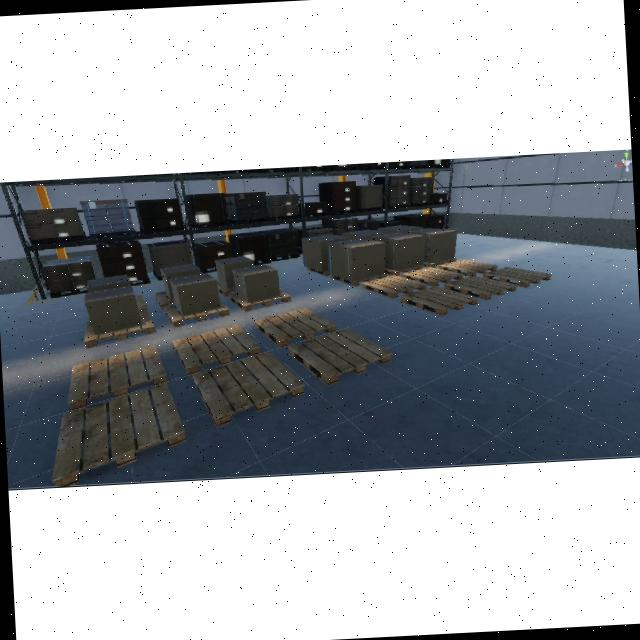wooden_pallet: (52, 384, 186, 488), (193, 353, 306, 428), (69, 346, 167, 411), (289, 329, 392, 387), (171, 324, 261, 373), (255, 308, 337, 348), (84, 309, 155, 348), (401, 287, 479, 315), (163, 300, 230, 328), (444, 275, 518, 300), (482, 266, 552, 288), (362, 275, 427, 298), (229, 290, 293, 311), (401, 267, 464, 286), (439, 260, 499, 276), (330, 274, 387, 286)
